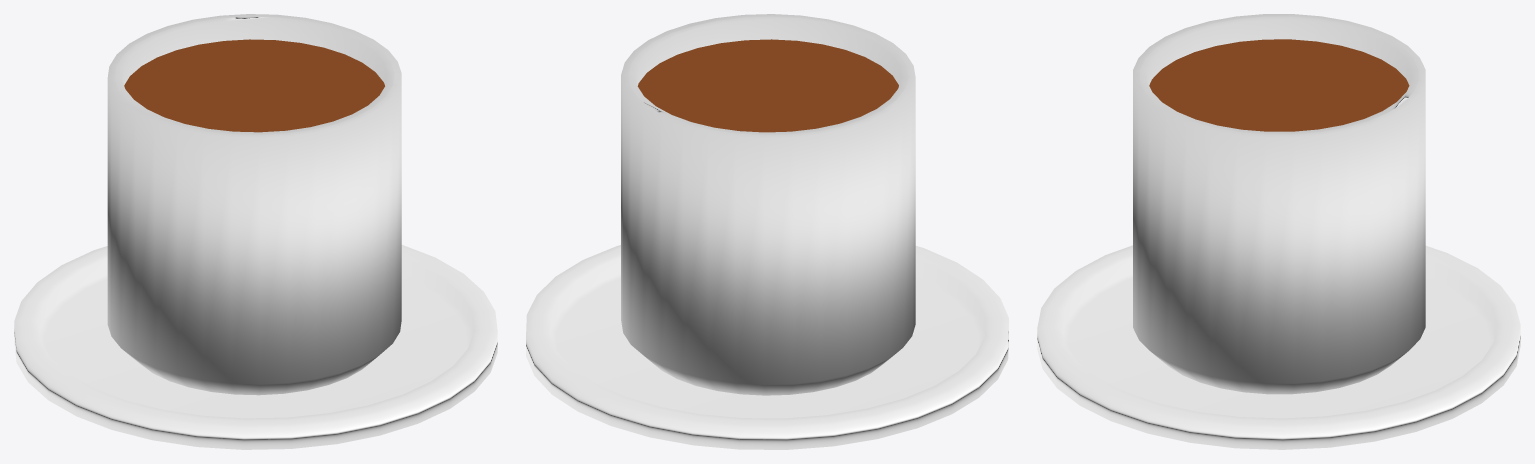
Rendered from cafe.fbx.
The picture shows the model from 3 angles, left to right: view 1: azimuth 30°, elevation 25°; view 2: azimuth 150°, elevation 25°; view 3: azimuth 270°, elevation 25°; orthographic projection.
Parts seen in each view (by area): view 1: Cilindro.002; view 2: Cilindro.002; view 3: Cilindro.002.
Part boxes in pixels (bbox=[...]): Cilindro.002: bbox=[14, 14, 497, 449]; Cilindro.002: bbox=[526, 14, 1008, 449]; Cilindro.002: bbox=[1037, 14, 1520, 449].
Bounding box in the file's own units: 63.1 × 39.2 × 63.1.
